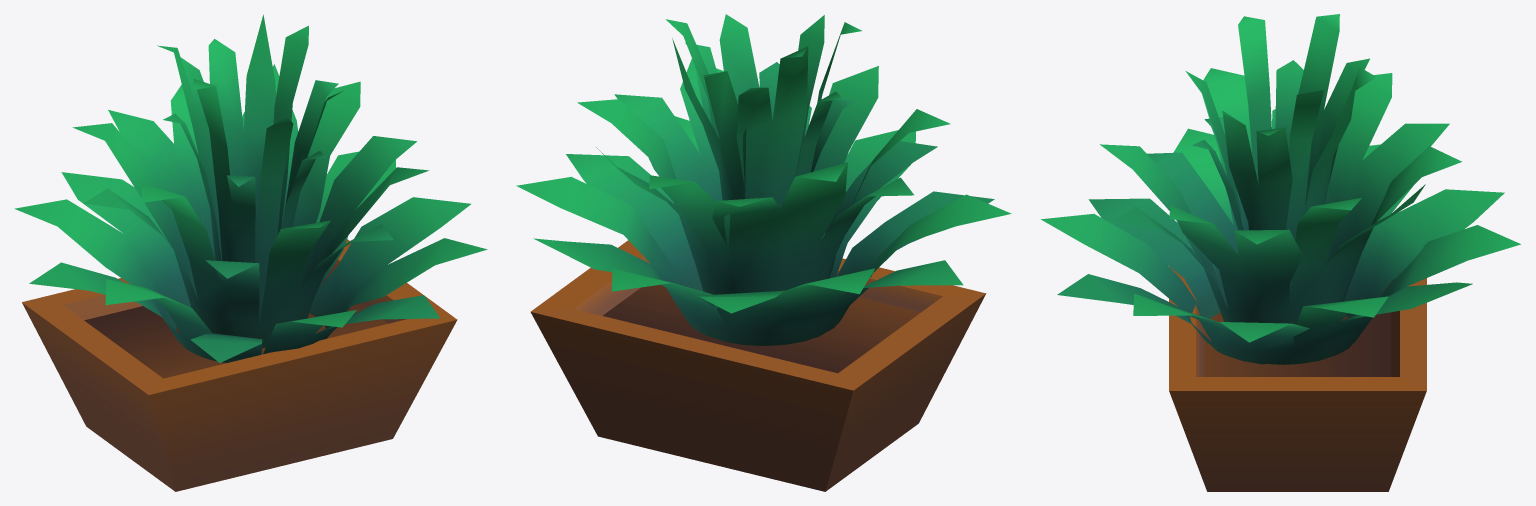
The model's file is Plant2.fbx.
The picture shows the model from 3 angles, left to right: view 1: azimuth 30°, elevation 25°; view 2: azimuth 150°, elevation 25°; view 3: azimuth 270°, elevation 25°; orthographic projection. The views are drawn at different scales.
Parts seen in each view (by area): view 1: Box009; view 2: Box009; view 3: Box009.
Boxes of the visible parts, x1,y1,x2,y2 form: Box009: (14, 14, 487, 491); Box009: (516, 14, 1011, 491); Box009: (1041, 14, 1520, 491).
Bounding box in the file's own units: 24.17 × 21.73 × 24.1.
